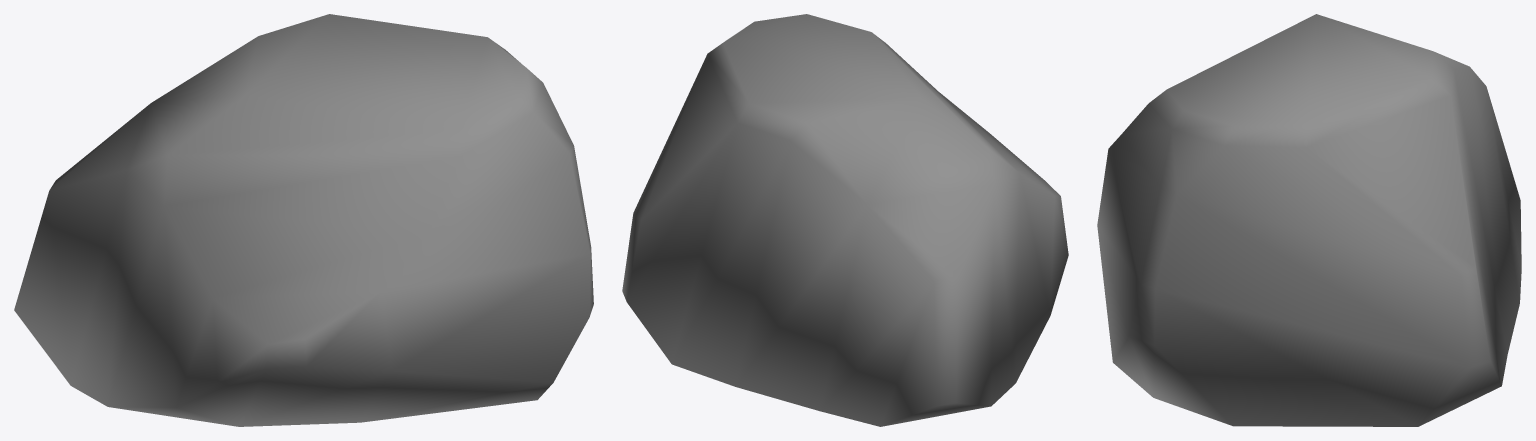
3 renders of one model, left to right at view 1: azimuth 30°, elevation 25°; view 2: azimuth 150°, elevation 25°; view 3: azimuth 270°, elevation 25°, orthographic. The views are drawn at different scales.
Visible parts, largest first — view 1: submesh_0; view 2: submesh_0; view 3: submesh_0.
Part boxes in pixels (left/top/right/bottom): submesh_0: left=14, top=14, right=593, bottom=426; submesh_0: left=622, top=14, right=1068, bottom=426; submesh_0: left=1097, top=14, right=1521, bottom=426.
Size of the model in its own units: 1.43 by 1.03 by 1.34.
1 material, 1 textured.
